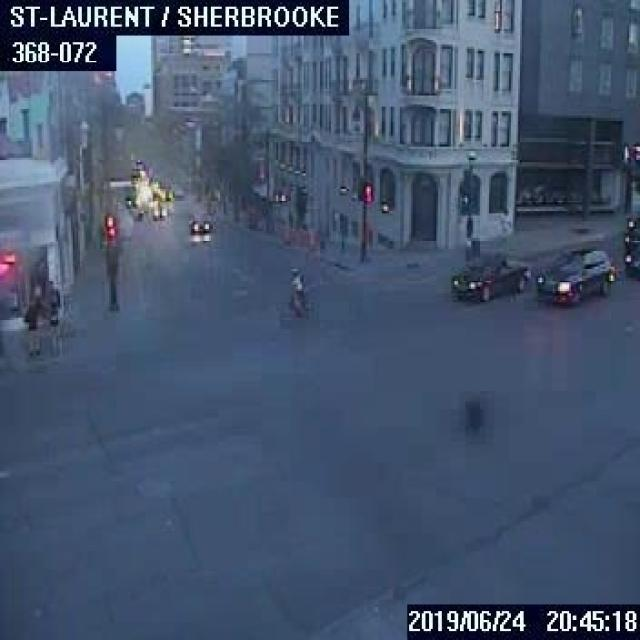bus: (620, 142, 638, 272)
cyclist: (275, 264, 313, 322)
pedestrian: (20, 291, 43, 354), (45, 286, 60, 353)
vehicle: (449, 247, 531, 300), (536, 247, 611, 304), (188, 212, 210, 233), (152, 202, 165, 216)
